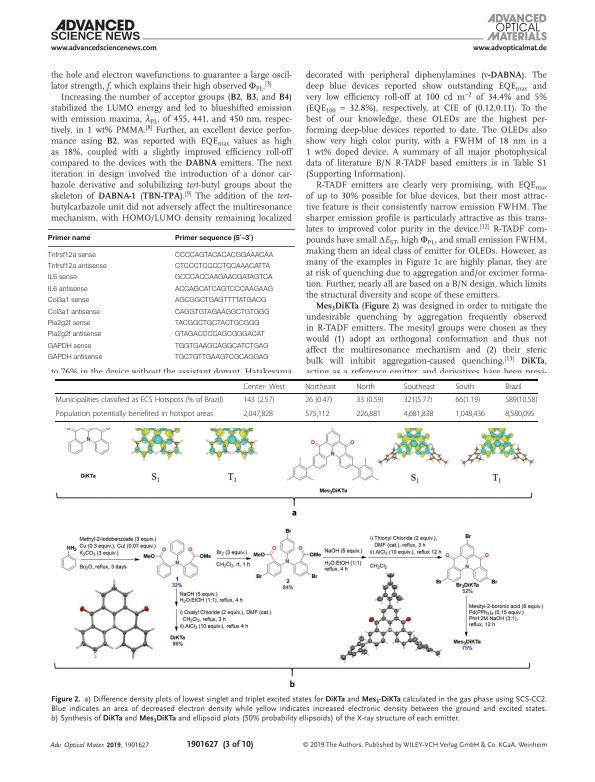borderless: (46, 227, 296, 362), (55, 378, 538, 421)
cell: (55, 395, 224, 405), (55, 409, 214, 419), (174, 251, 274, 260), (174, 285, 274, 294), (174, 262, 270, 271), (174, 353, 269, 362), (174, 296, 267, 305), (174, 274, 273, 282), (174, 319, 260, 328), (174, 308, 270, 316), (174, 342, 269, 350), (174, 331, 265, 339), (174, 234, 254, 242), (47, 262, 107, 271), (47, 353, 103, 362), (47, 251, 96, 260), (47, 331, 102, 339), (47, 308, 100, 316), (47, 319, 91, 328), (242, 382, 286, 391), (47, 296, 90, 305), (47, 285, 88, 294), (47, 342, 92, 350), (47, 234, 91, 242), (504, 395, 538, 405), (242, 395, 275, 405), (242, 409, 274, 419), (454, 409, 486, 419), (504, 409, 536, 419), (403, 409, 434, 419), (403, 395, 433, 405), (304, 382, 337, 391), (403, 382, 436, 391), (304, 395, 333, 405), (355, 395, 384, 405), (454, 395, 481, 405), (355, 409, 382, 419), (304, 409, 330, 419), (47, 274, 77, 282), (355, 382, 376, 391), (454, 382, 475, 391), (504, 382, 523, 391)
